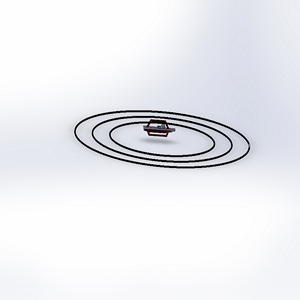circle: (67, 104, 256, 178)
submarine: (139, 116, 177, 145)
